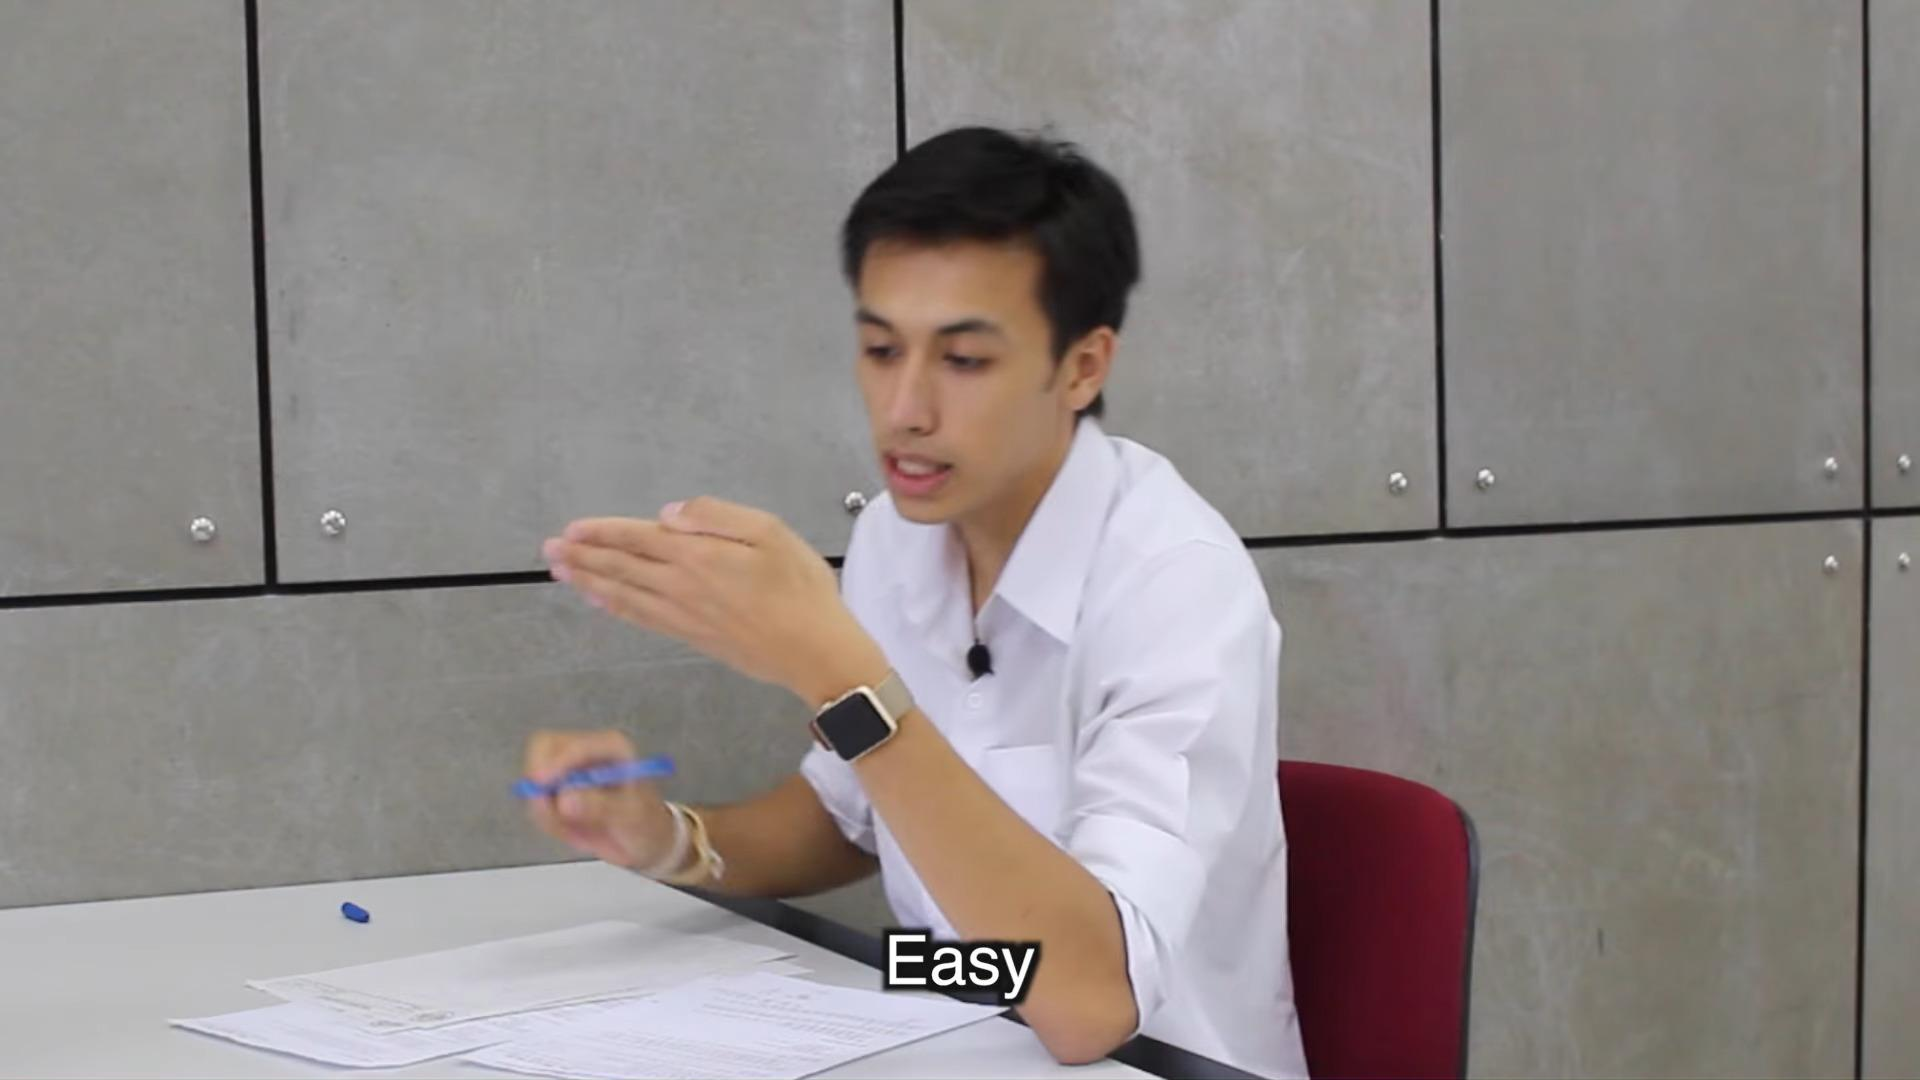cheating: (491, 100, 1320, 915)
